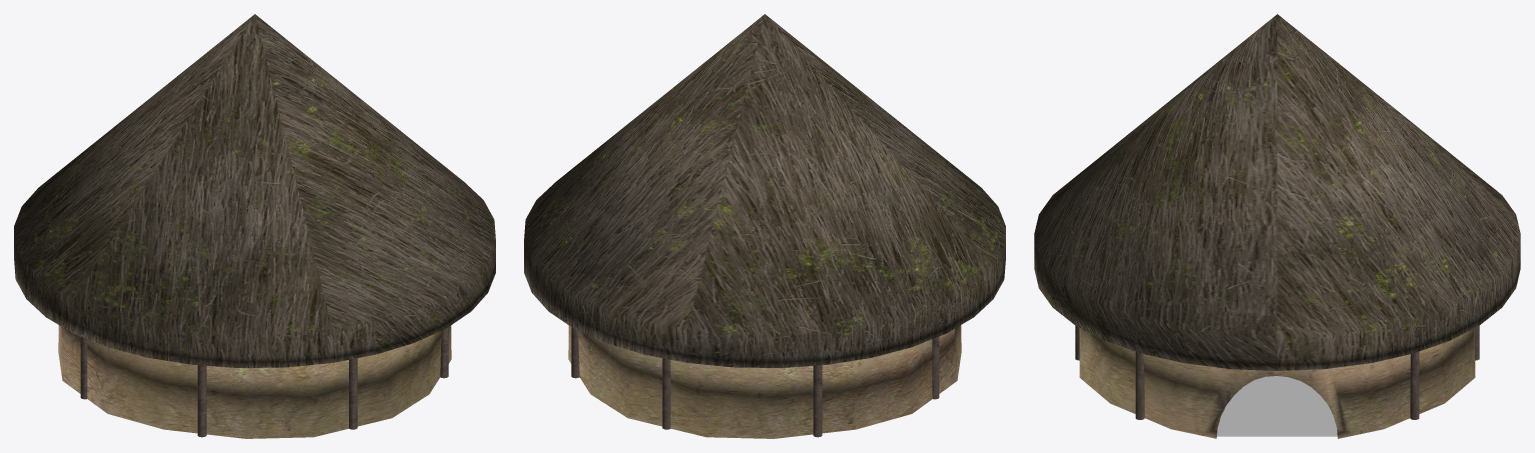
The model's file is Mocambo.glb.
3 views of the same model, side by side, from view 1: azimuth 30°, elevation 25°; view 2: azimuth 150°, elevation 25°; view 3: azimuth 270°, elevation 25° (orthographic).
Parts seen in each view (by area): view 1: Cone, Cilindro, Cilindro.007, Cilindro.003, Cilindro.002; view 2: Cone, Cilindro, Cilindro.005, Cilindro.001, Cilindro.002; view 3: Cone, Cilindro, Plane, Cilindro.006, Cilindro.004.
Boxes of the visible parts, box(x1,y1,x2,y2) form: Cone: box(14, 14, 495, 367); Cilindro: box(58, 325, 451, 438); Cilindro.007: box(197, 365, 206, 437); Cilindro.003: box(349, 358, 357, 429); Cilindro.002: box(80, 336, 87, 399); Cone: box(524, 14, 1005, 367); Cilindro: box(568, 325, 961, 438); Cilindro.005: box(813, 365, 822, 437); Cilindro.001: box(662, 358, 670, 429); Cilindro.002: box(932, 336, 939, 399); Cone: box(1034, 14, 1520, 370); Cilindro: box(1079, 328, 1475, 438); Plane: box(1217, 376, 1337, 436); Cilindro.006: box(1410, 351, 1419, 419); Cilindro.004: box(1135, 351, 1144, 419).
Bounding box in the file's own units: 32 × 25 × 32.
Materials: 4 (3 with a texture image).
